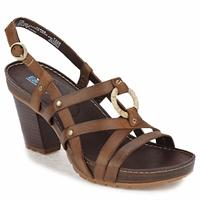shoe: (5, 18, 195, 186)
